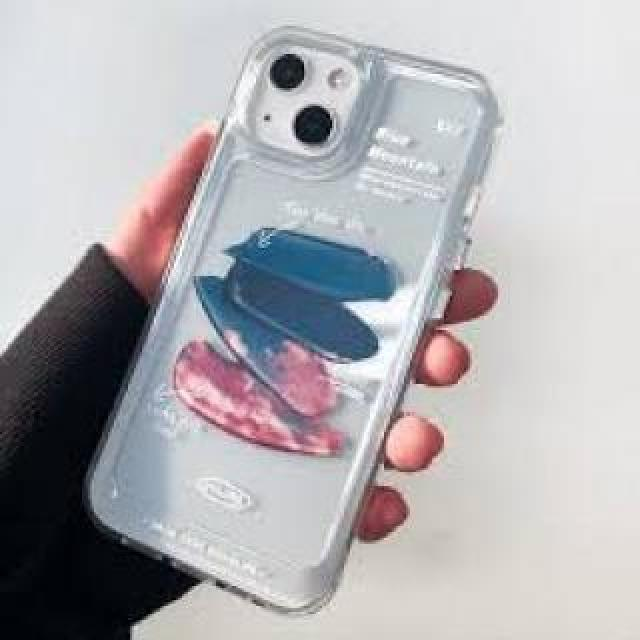smart phone: (175, 10, 413, 625)
